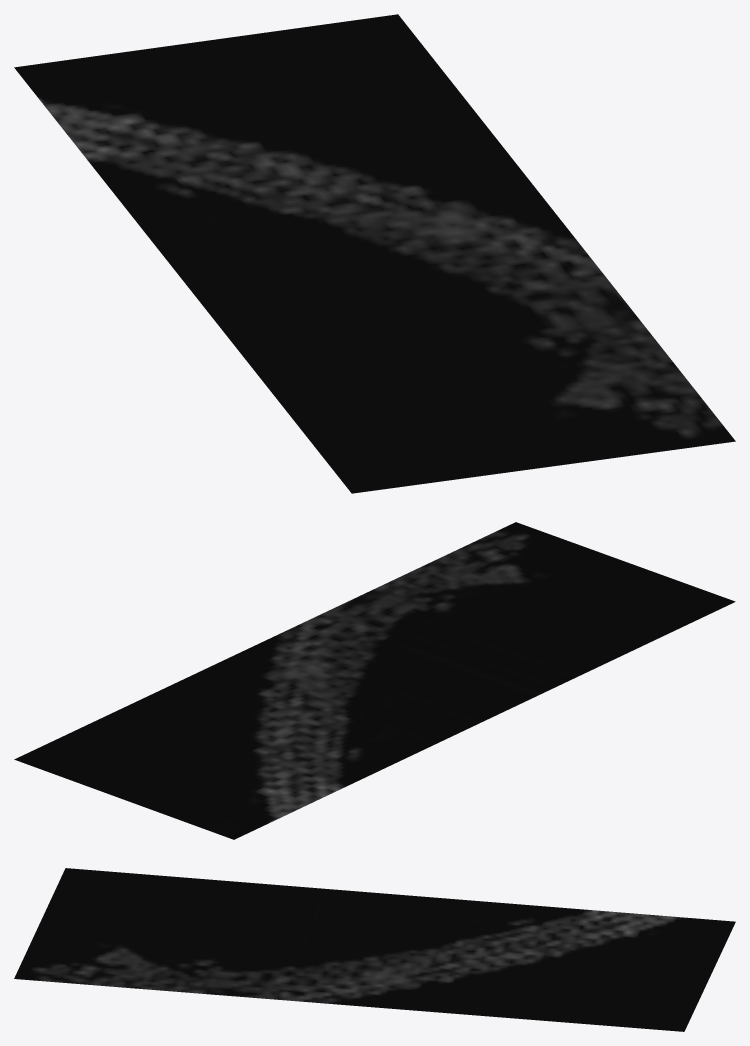
The model's file is JiaoWaiSenLin_luntaiyin_01.FBX.
The picture shows the model from 3 angles, top to bottom: view 1: azimuth 30°, elevation 25°; view 2: azimuth 150°, elevation 25°; view 3: azimuth 270°, elevation 25°; orthographic projection. The views are drawn at different scales.
Visible parts, largest first — view 1: JiaoWaiSenLin_luntaiyin_01; view 2: JiaoWaiSenLin_luntaiyin_01; view 3: JiaoWaiSenLin_luntaiyin_01.
Part boxes in pixels (<box>): JiaoWaiSenLin_luntaiyin_01: <box>14,14,735,493</box>; JiaoWaiSenLin_luntaiyin_01: <box>14,522,735,839</box>; JiaoWaiSenLin_luntaiyin_01: <box>14,868,735,1031</box>.
Size of the model in its own units: 938 by 12.65 by 1727.
